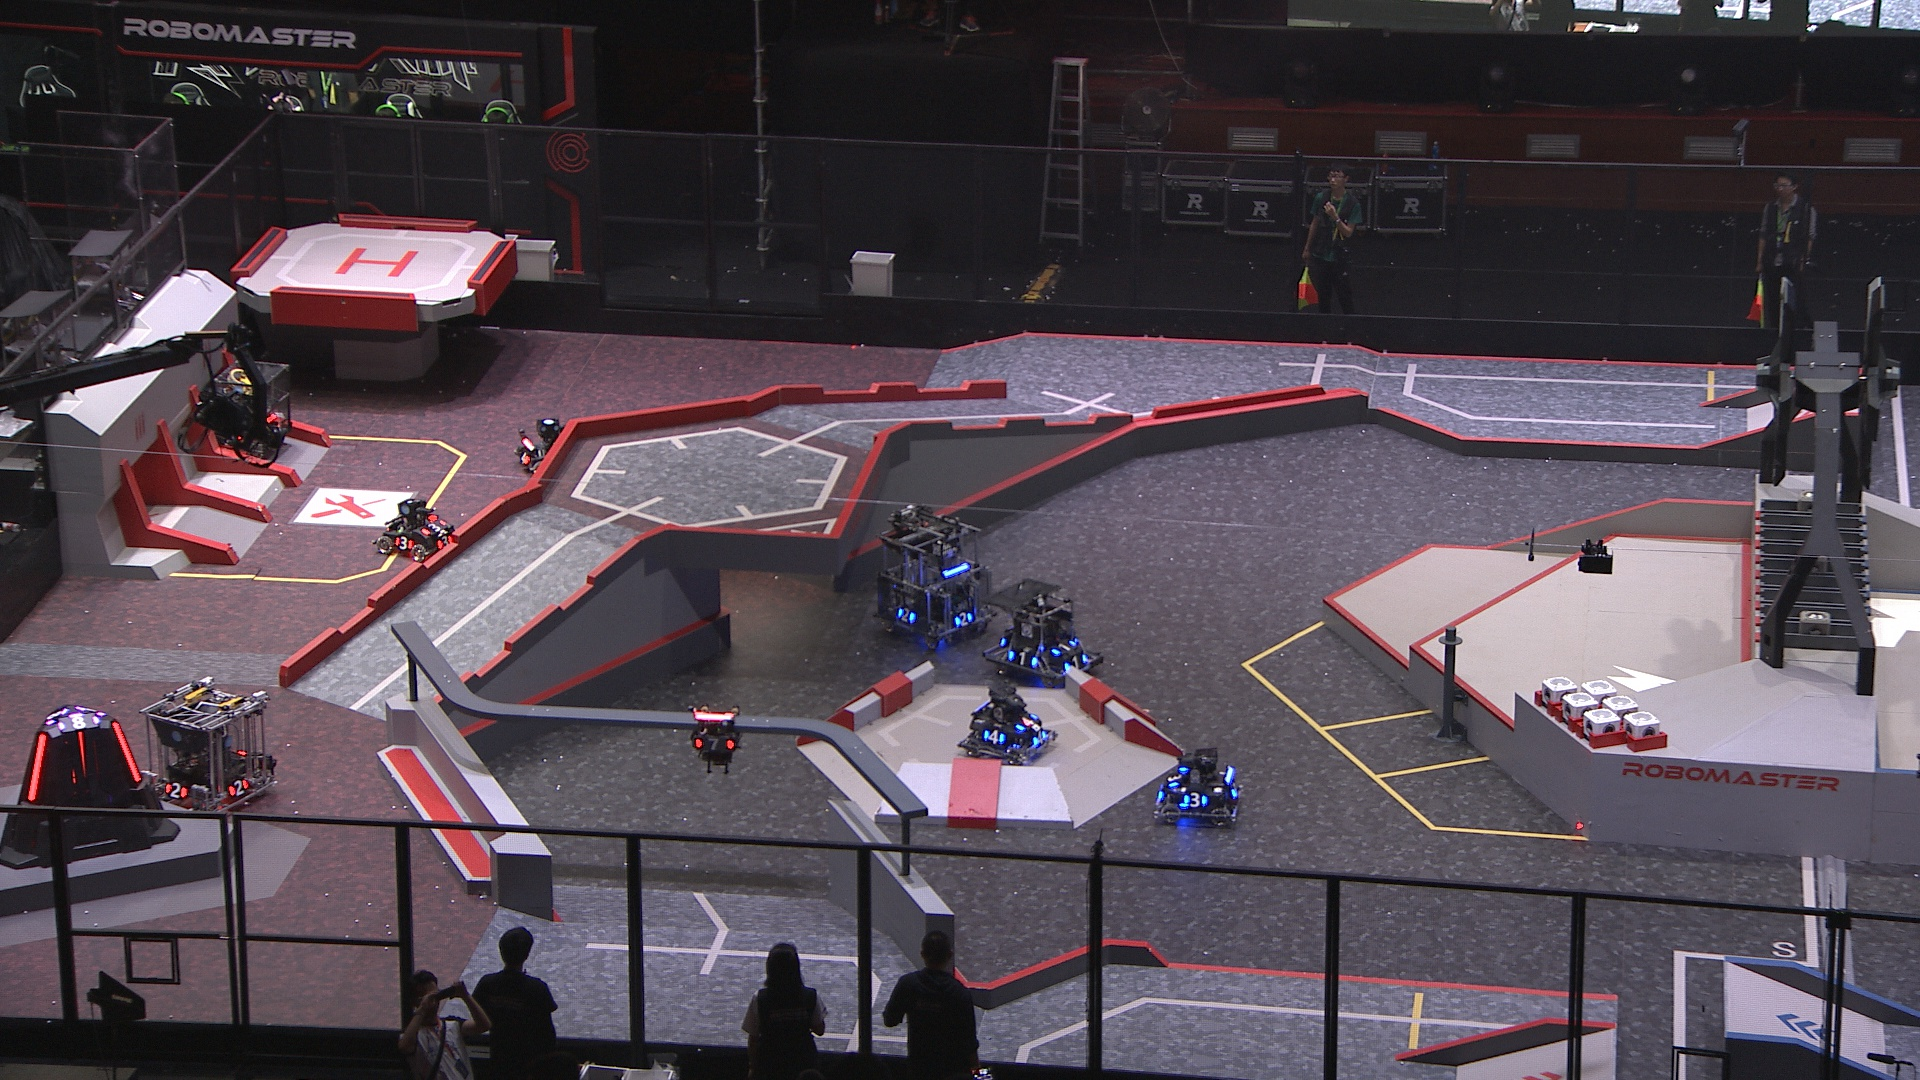armor: (111, 721, 140, 785), (25, 731, 47, 802), (694, 735, 735, 752), (76, 732, 88, 782), (1007, 650, 1036, 670), (161, 781, 190, 799), (1050, 637, 1077, 655), (1063, 655, 1091, 673), (1015, 713, 1039, 732), (893, 605, 916, 624), (228, 779, 252, 798), (981, 728, 1006, 745), (951, 611, 975, 628), (1167, 767, 1185, 787), (1183, 793, 1204, 808), (392, 535, 414, 550), (436, 533, 454, 551), (1031, 731, 1048, 749), (422, 520, 446, 533), (1228, 781, 1242, 802), (520, 451, 531, 465)
car: (138, 676, 280, 811), (870, 502, 997, 651), (982, 579, 1102, 687), (206, 356, 302, 465), (1153, 746, 1247, 833), (960, 679, 1058, 764), (372, 498, 462, 564), (512, 417, 572, 475)
ignore: (55, 713, 100, 732), (44, 708, 67, 727)
watcher: (686, 704, 741, 778)
